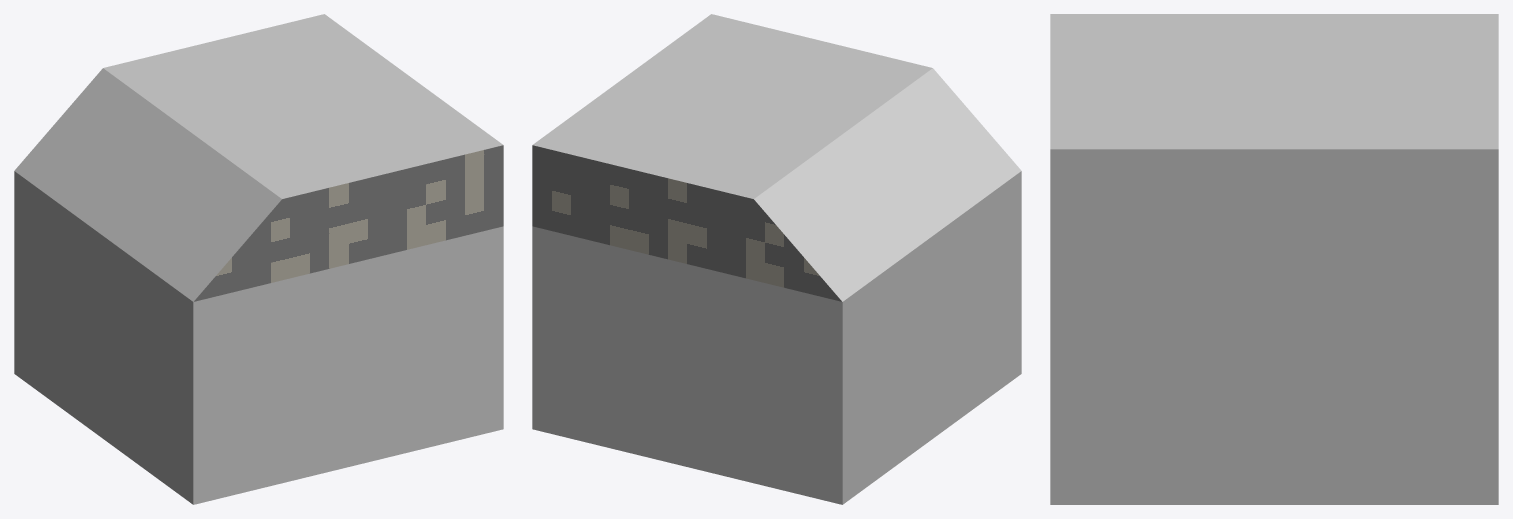
The model's file is slope87_5_shave10_base10.obj.
3 views of the same model, side by side, from view 1: azimuth 30°, elevation 25°; view 2: azimuth 150°, elevation 25°; view 3: azimuth 270°, elevation 25° (orthographic). The views are drawn at different scales.
Size of the model in its own units: 1 by 0.875 by 1.
